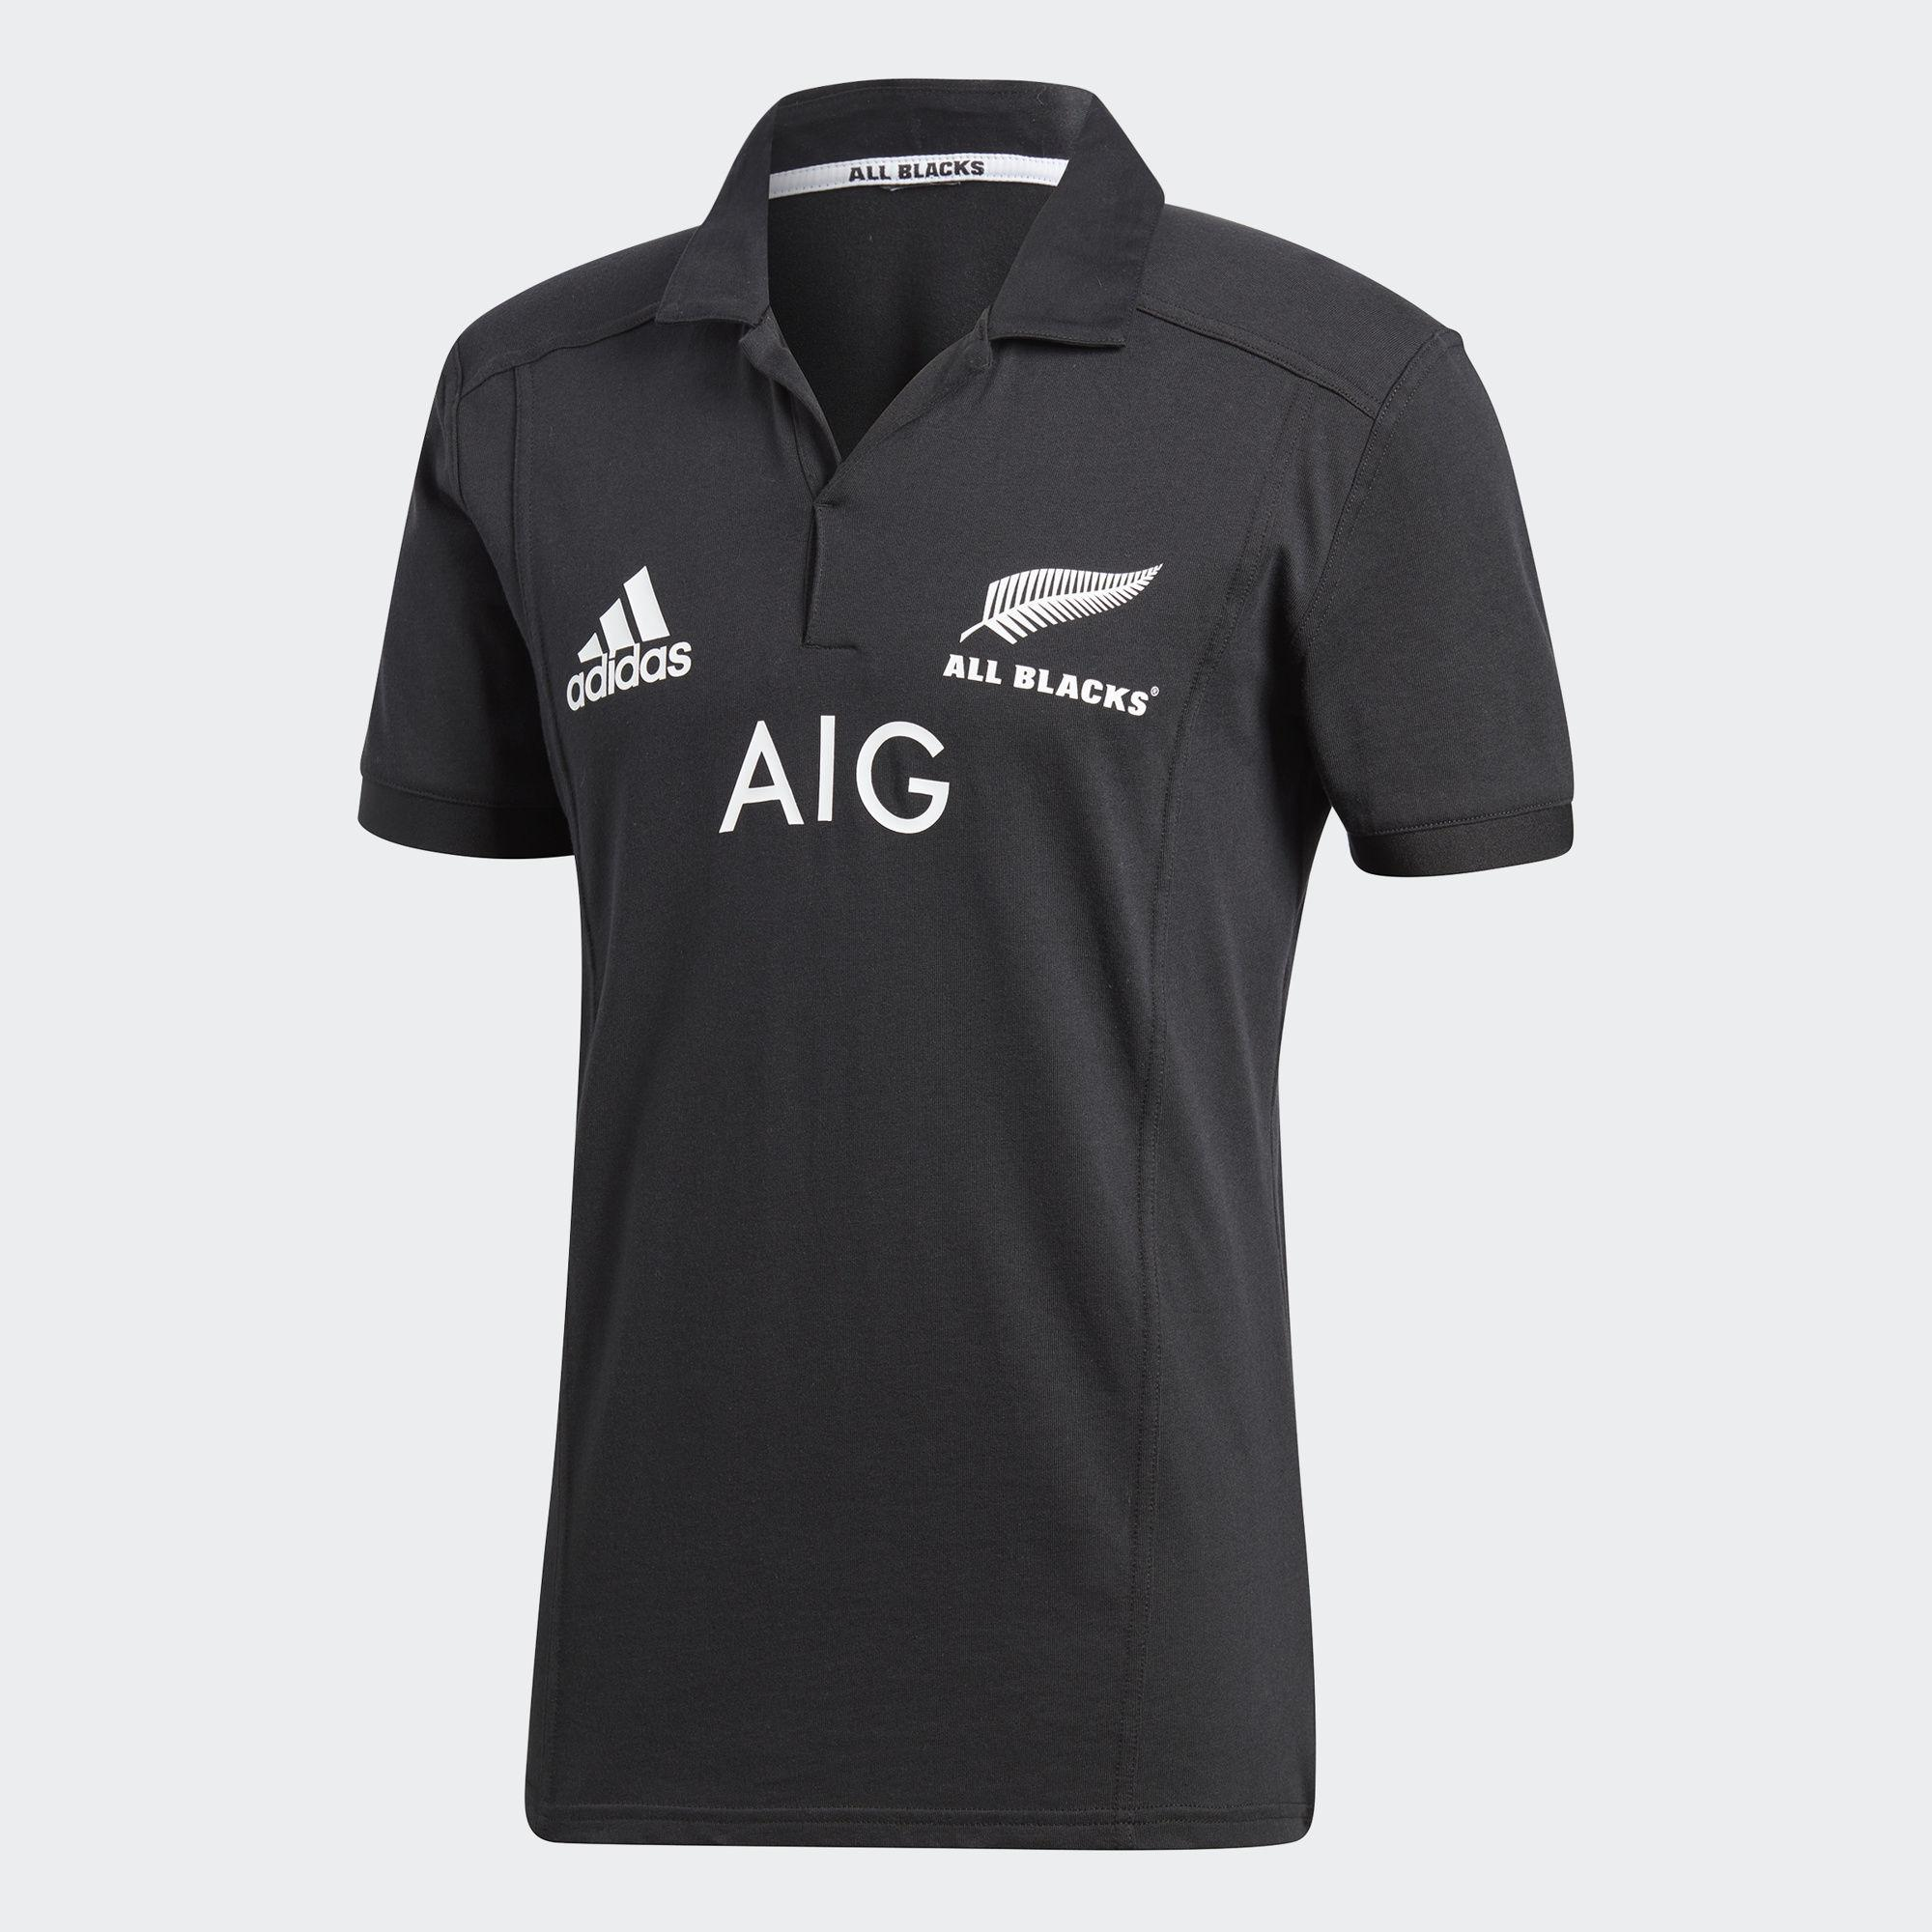teeshirt: (341, 39, 1605, 1920)
